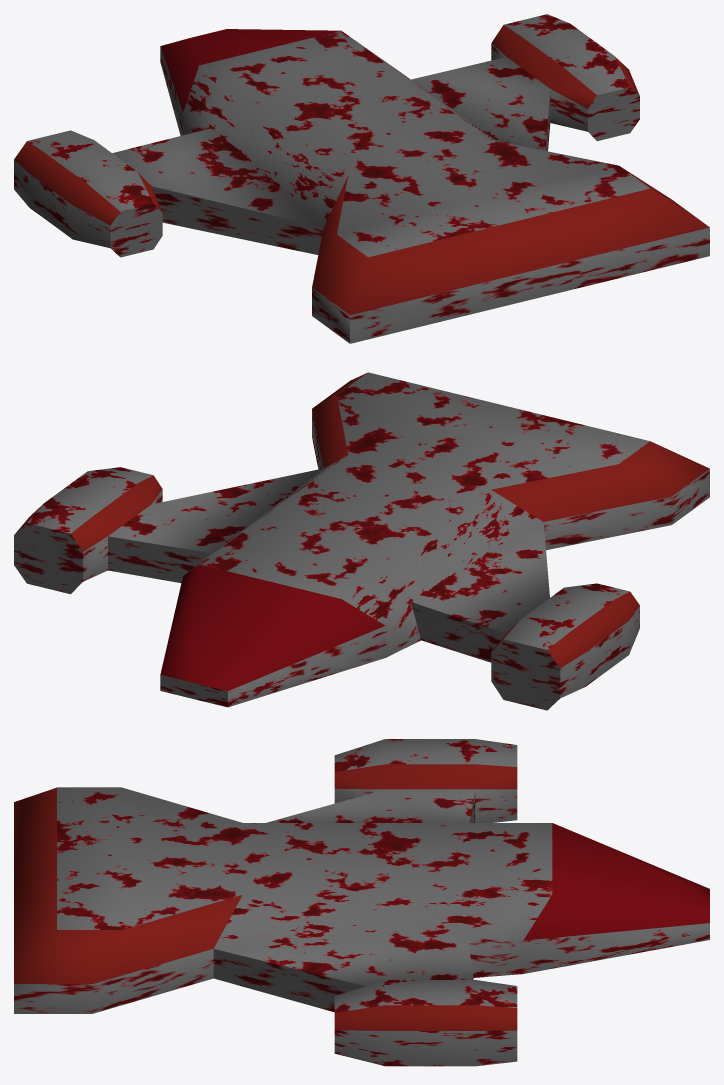
File: MardarianTwo.fbx
The picture shows the model from 3 angles, top to bottom: view 1: azimuth 30°, elevation 25°; view 2: azimuth 150°, elevation 25°; view 3: azimuth 270°, elevation 25°; orthographic projection. The views are drawn at different scales.
Parts seen in each view (by area): view 1: mardarian_2; view 2: mardarian_2; view 3: mardarian_2.
Boxes of the visible parts, x1,y1,x2,y2 form: mardarian_2: [14, 14, 709, 343]; mardarian_2: [14, 372, 709, 710]; mardarian_2: [14, 739, 709, 1066].
Size of the model in its own units: 18065 by 18895 by 2415.
